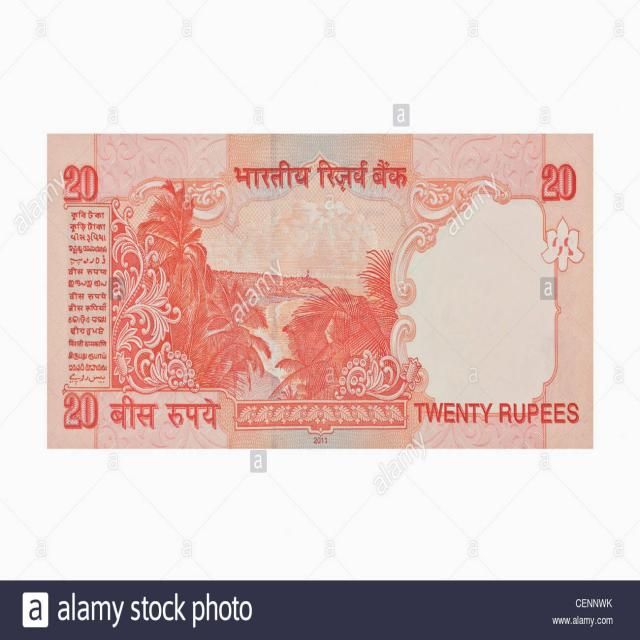20IndianRupees: (45, 134, 589, 448), (211, 136, 591, 441), (43, 133, 410, 447)
